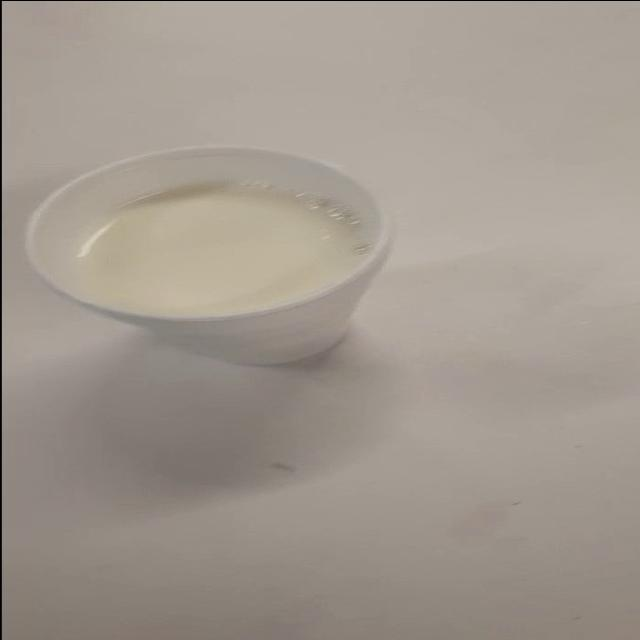Milk: (27, 132, 450, 385)
